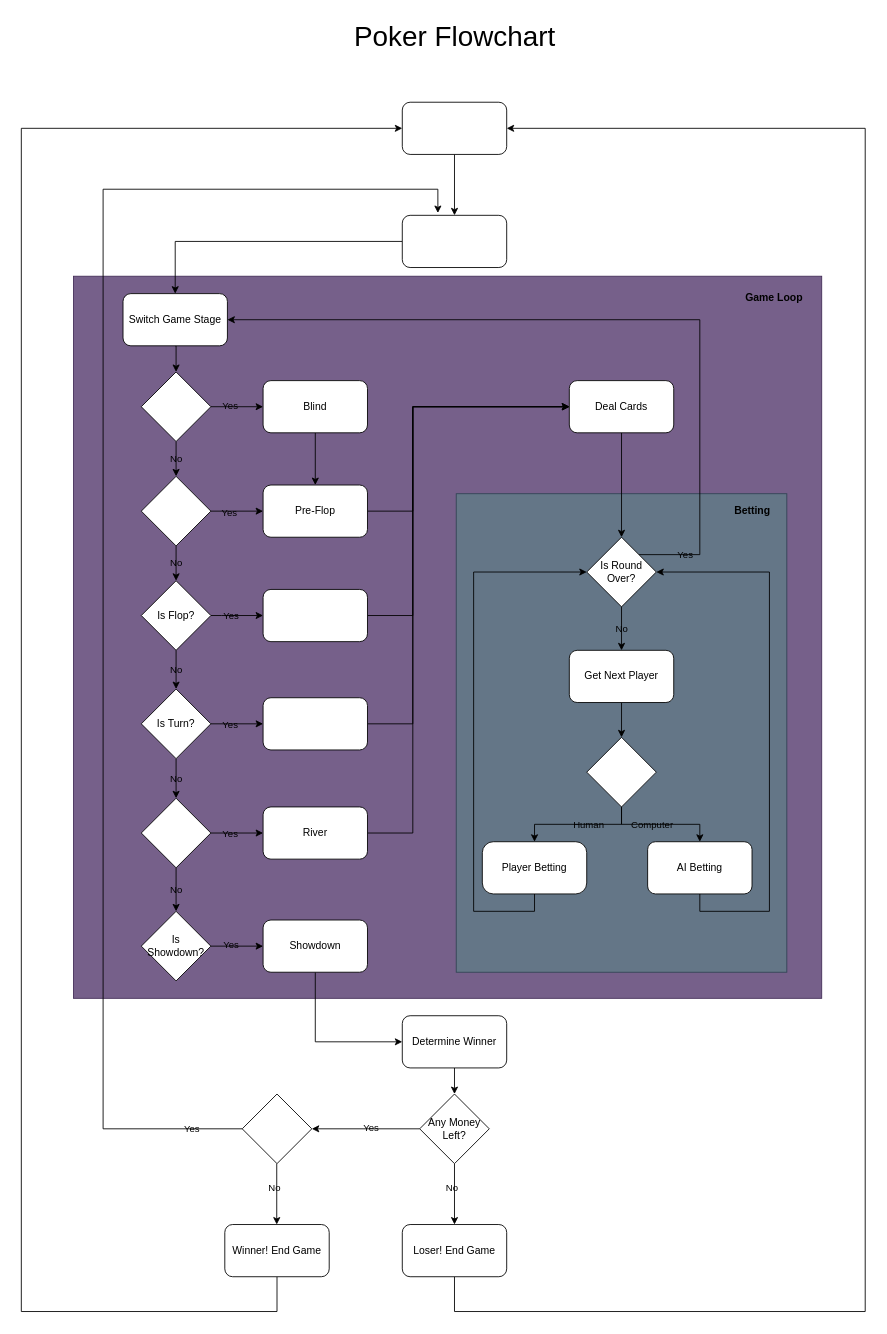
Image size: 887x1334. Some labels were removed from this diagram. The centre of each missing label's shape, as x and y in pixels:
"Any Other Players Left?" goes at point (276, 1128).
"Flop" goes at point (314, 615).
"Is Blind?" goes at point (175, 406).
"Is Pre-Flop" goes at point (175, 510).
"Is River?" goes at point (175, 832).
"Player Type" goes at point (621, 771).
"Start Game" goes at point (454, 127).
"Start New Round" goes at point (454, 241).
"Turn" goes at point (314, 723).
